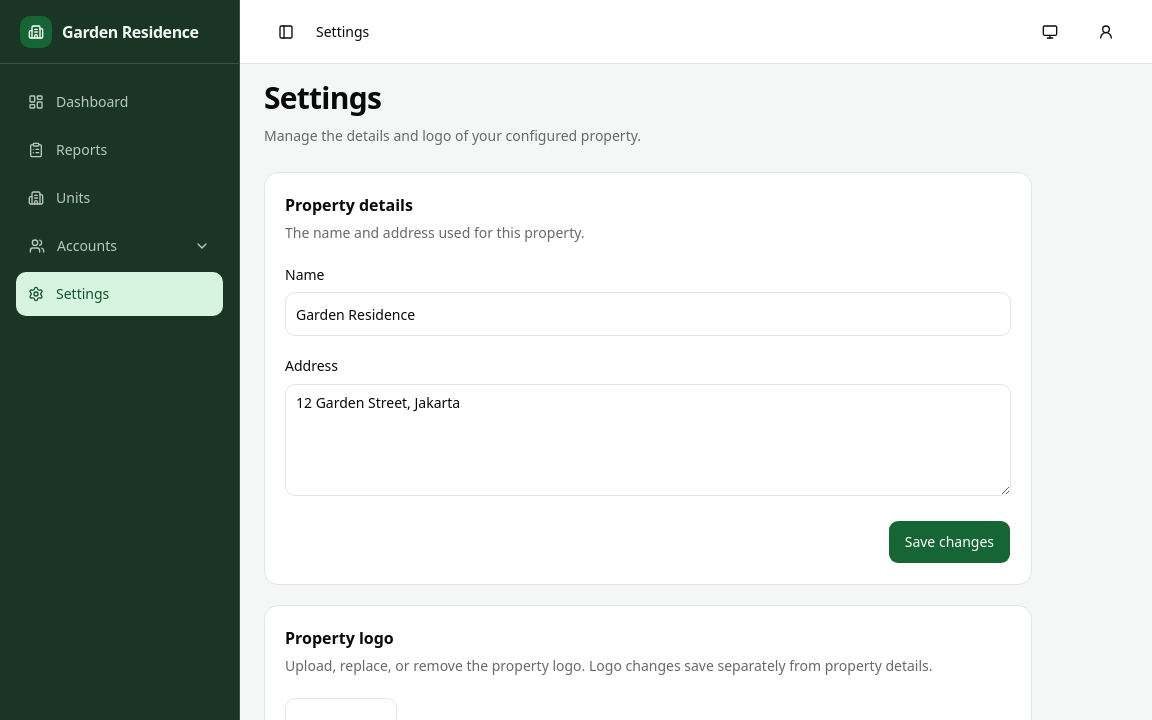
Test: loads and submits both validated, trimmed details
This screenshot has width=1152, height=720.
Replace the text in the field labelled "Name" with " Updated residence " at (648,314), box [285,292,1011,336]
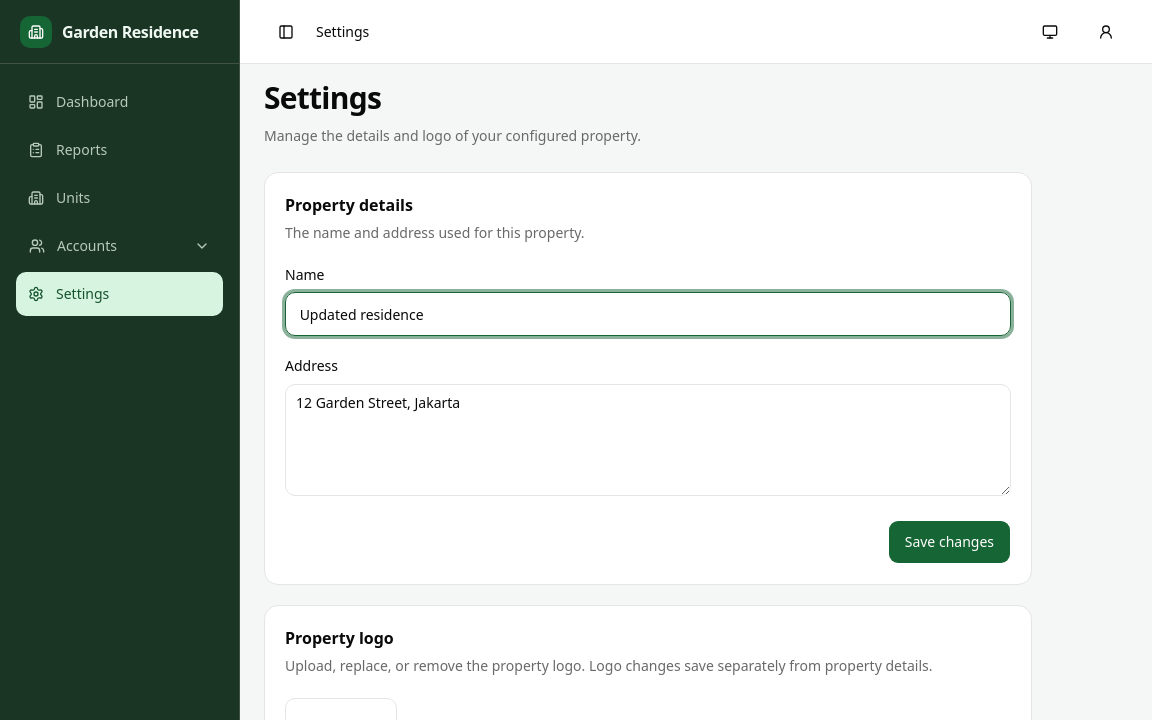
Replace the text in the text box labelled "Address" with " New address " at (648,440), box [285,384,1011,496]
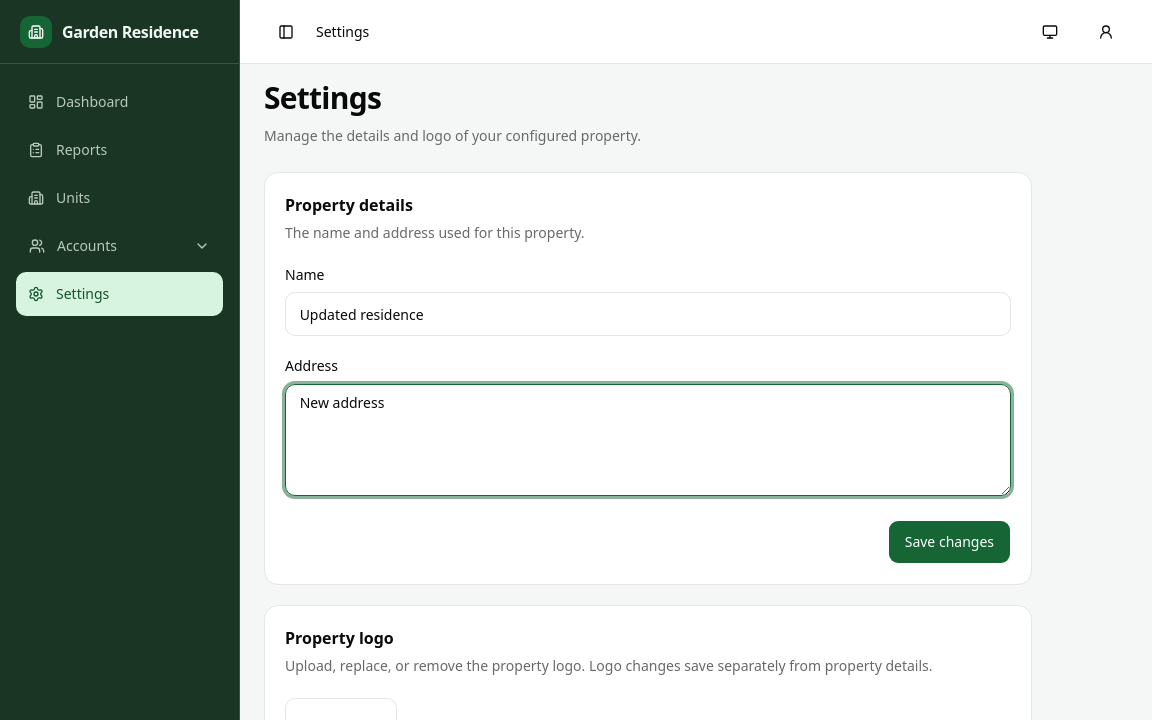
Click the button "Save changes" at (949,542), box [888,520,1011,564]
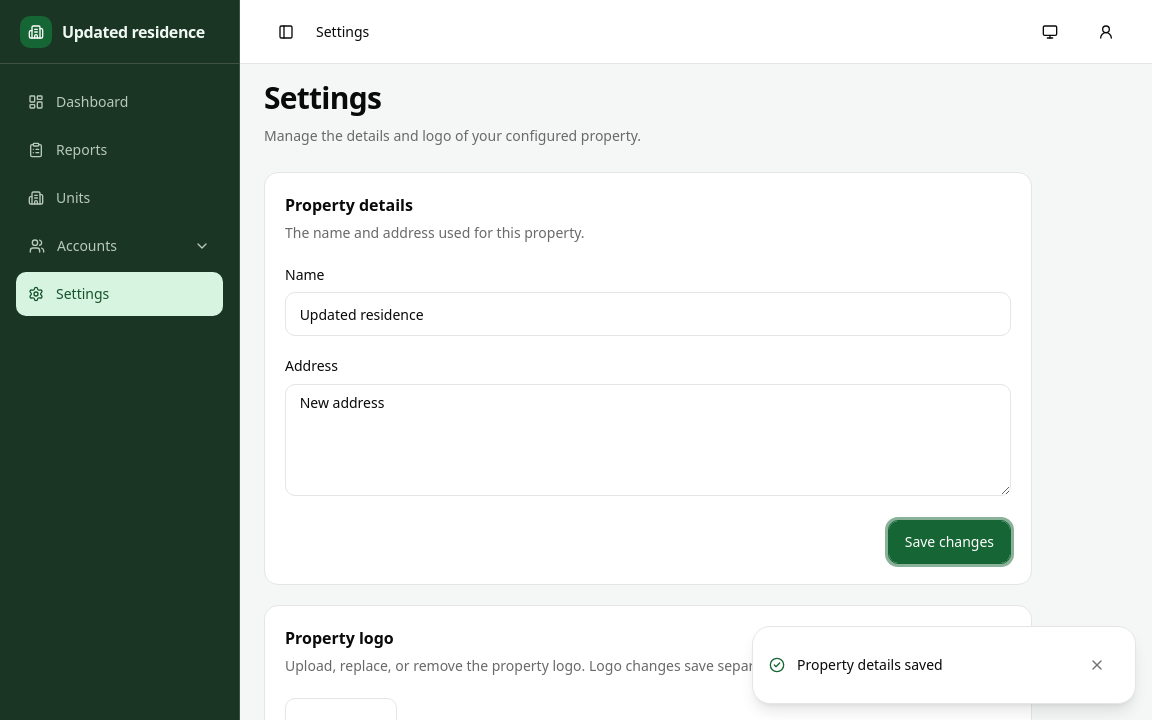
Now the heading "Property details saved" is shown, box [797,655,943,674]
